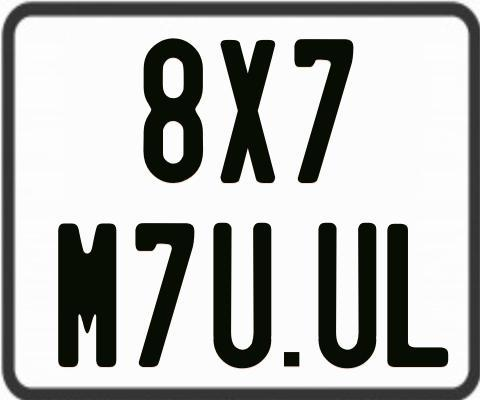7: (292, 36, 357, 180), (132, 223, 191, 371)
8: (140, 36, 200, 187)
L: (387, 223, 448, 370)
M: (55, 221, 118, 370)
U: (211, 223, 272, 372), (315, 223, 376, 370)
X: (221, 37, 277, 185)
